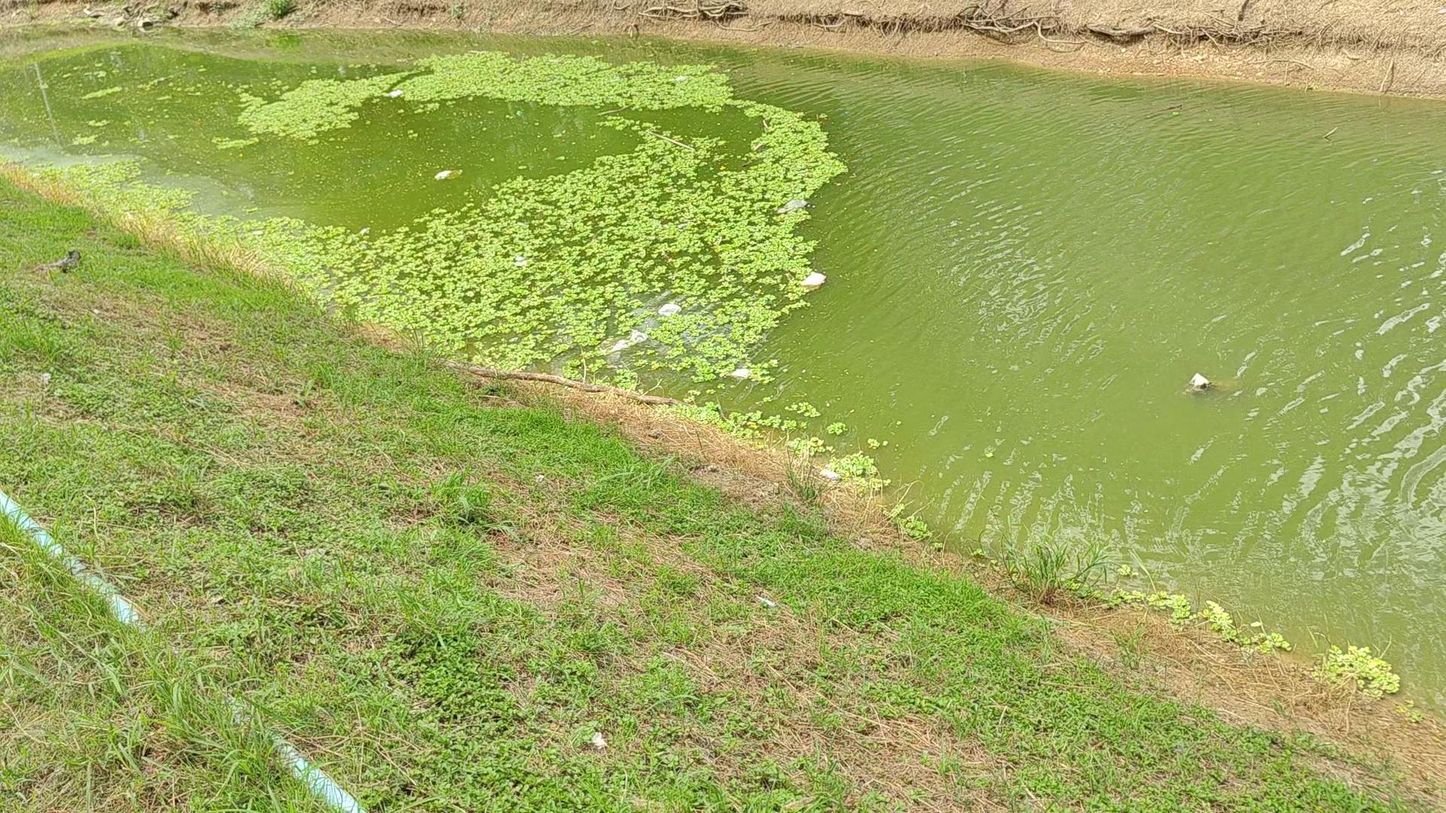trash: (610, 330, 648, 352), (801, 271, 826, 290), (776, 199, 808, 213), (1188, 373, 1211, 391), (658, 303, 681, 315), (435, 170, 459, 179), (731, 367, 750, 378), (386, 88, 403, 97), (514, 255, 526, 266), (673, 75, 688, 81), (360, 227, 370, 234)
